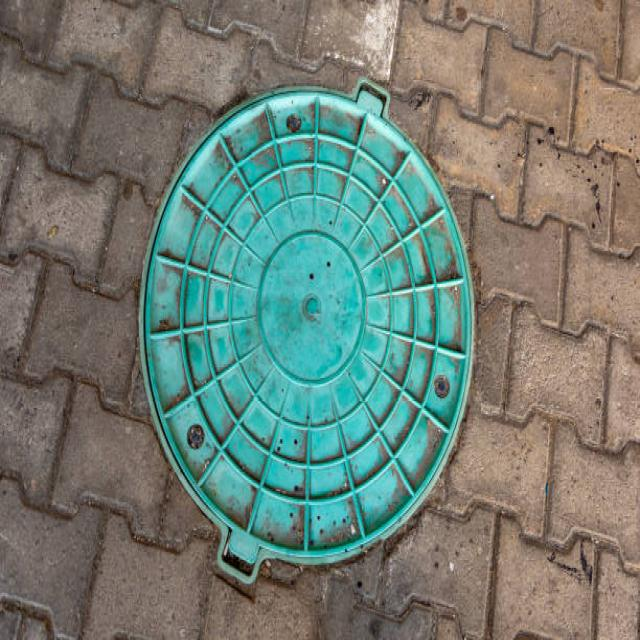Good: (133, 80, 484, 597)
